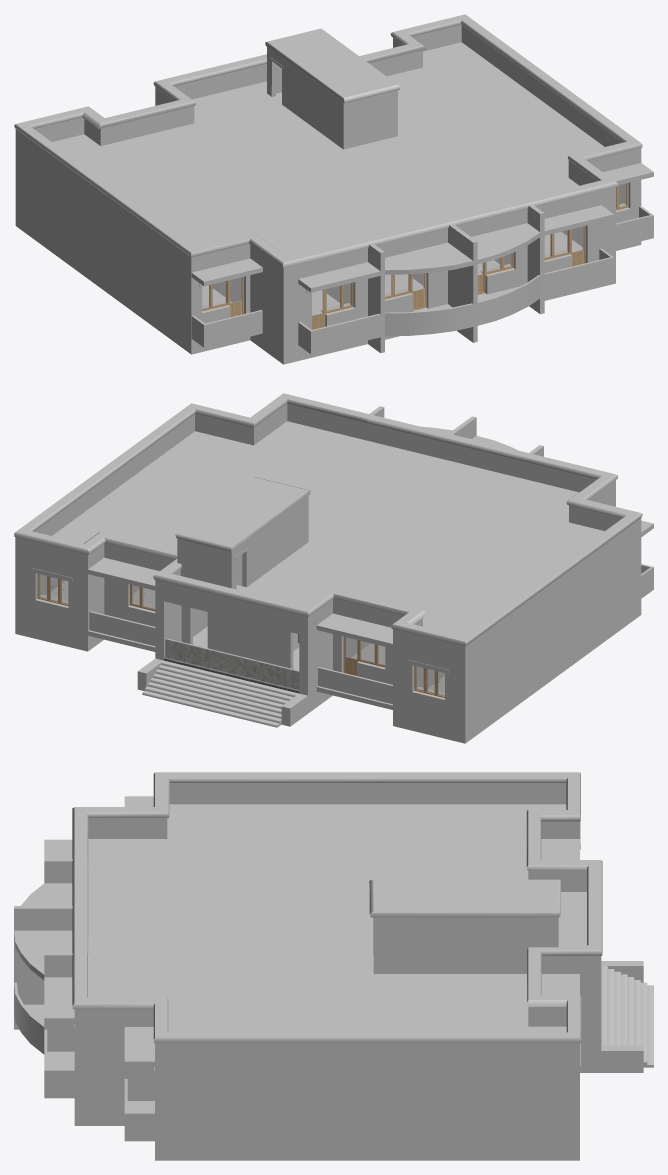
3 views of the same model, one above another, from view 1: azimuth 30°, elevation 25°; view 2: azimuth 150°, elevation 25°; view 3: azimuth 270°, elevation 25° (orthographic). The views are drawn at different scales.
Parts seen in each view (by area): view 1: 2, 1, 5, 4, Room 29, Room 32, Room 15, Room 30, R.000; view 2: 2, 1, 4, 5, 6, Room 7, Room 1, Room 2, Room 5; view 3: 2, 1, 4, 5.
Boxes of the visible parts, <box> form: 2: <box>14,14,653,292</box>; 1: <box>15,149,641,346</box>; 5: <box>191,206,653,354</box>; 4: <box>15,208,641,364</box>; Room 29: <box>306,282,355,326</box>; Room 32: <box>544,225,587,262</box>; Room 15: <box>199,276,245,313</box>; Room 30: <box>385,273,428,311</box>; R.000: <box>571,226,584,266</box>; 2: <box>14,393,653,666</box>; 1: <box>15,499,641,725</box>; 4: <box>15,597,641,743</box>; 5: <box>88,564,653,709</box>; 6: <box>164,638,299,693</box>; Room 7: <box>31,568,72,607</box>; Room 1: <box>407,660,448,699</box>; Room 2: <box>341,636,385,672</box>; Room 5: <box>190,555,242,644</box>; 2: <box>14,772,602,1066</box>; 1: <box>14,938,601,1138</box>; 4: <box>14,961,653,1160</box>; 5: <box>14,982,154,1141</box>.
Bounding box in the file's own units: 2076 × 577 × 2109.
